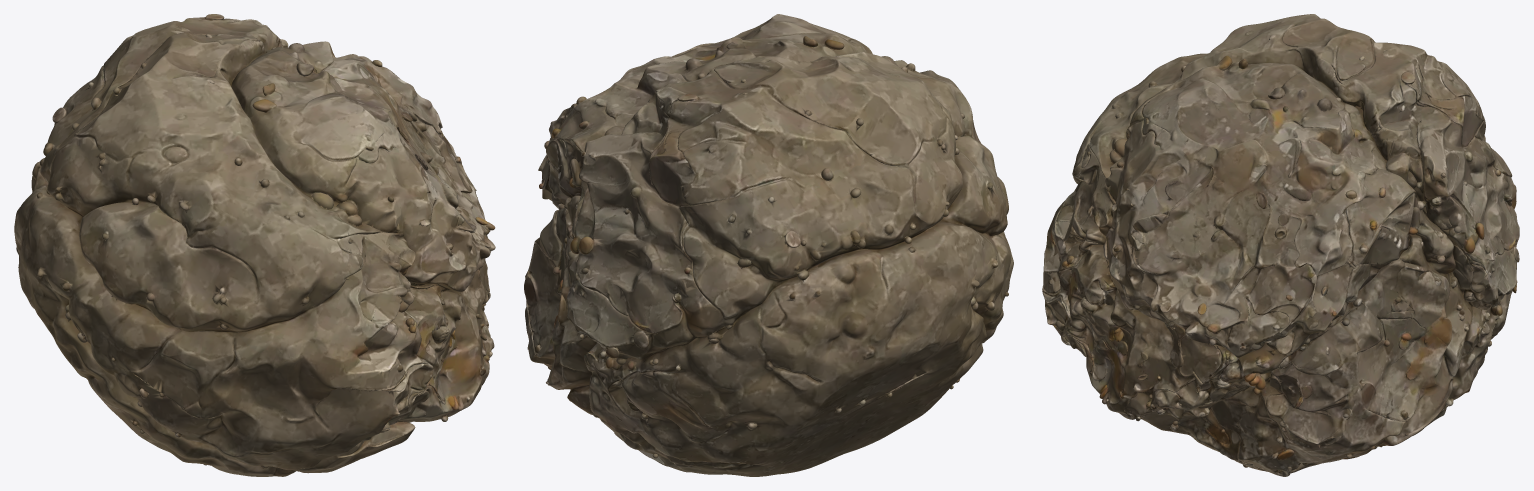
File: giant-boulder.glb
The picture shows the model from 3 angles, left to right: view 1: azimuth 30°, elevation 25°; view 2: azimuth 150°, elevation 25°; view 3: azimuth 270°, elevation 25°; orthographic projection. The views are drawn at different scales.
Visible parts, largest first — view 1: tripo_node_5e745e75-1fbf-4781-98fb-79883f32bde1; view 2: tripo_node_5e745e75-1fbf-4781-98fb-79883f32bde1; view 3: tripo_node_5e745e75-1fbf-4781-98fb-79883f32bde1.
Part boxes in pixels (x1,y1,x2,y2): tripo_node_5e745e75-1fbf-4781-98fb-79883f32bde1: (14, 14, 495, 476); tripo_node_5e745e75-1fbf-4781-98fb-79883f32bde1: (524, 14, 1013, 476); tripo_node_5e745e75-1fbf-4781-98fb-79883f32bde1: (1042, 14, 1519, 476).
Size of the model in its own units: 0.9638 by 0.8759 by 0.9792.
Materials: 1 (1 with a texture image).
